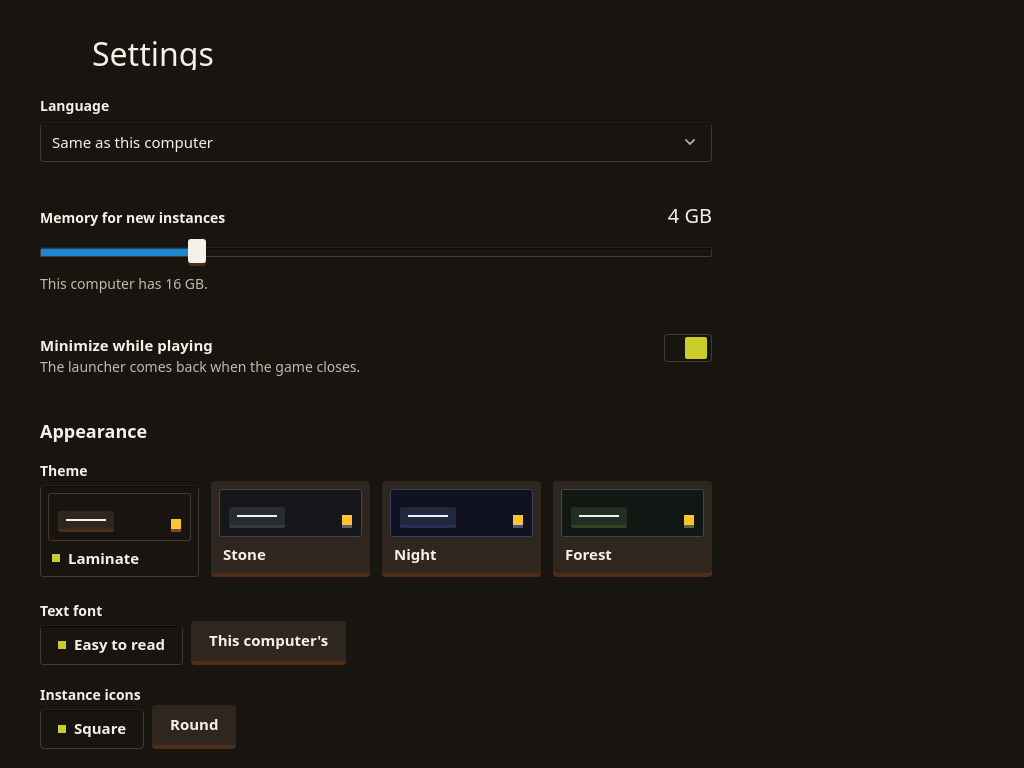
it: follows the computer language again when "same as this computer" is picked
Select "Español" in the dropdown labelled "Language" at (376, 142), box [40,122,712,162]
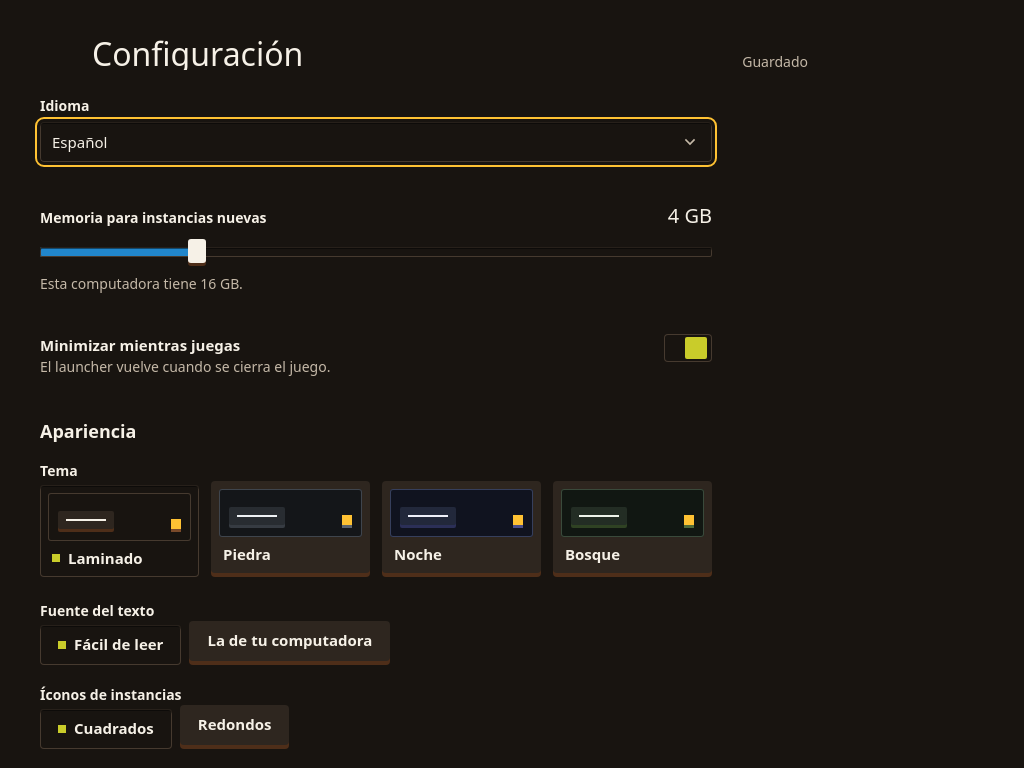
Expected: the heading "Configuración" is shown, [92,38,303,70]
Select "El mismo que esta computadora" in the dropdown labelled "Idioma" at (376, 142), box [40,122,712,162]
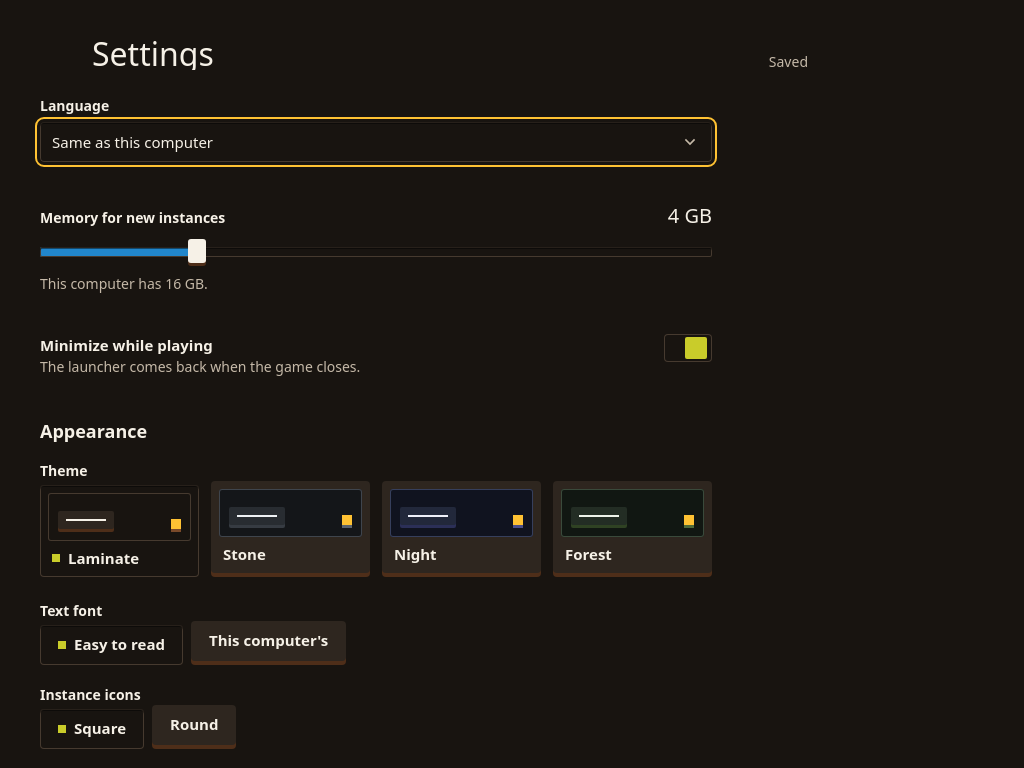
Expected: the heading "Settings" is shown, [92,38,214,70]
